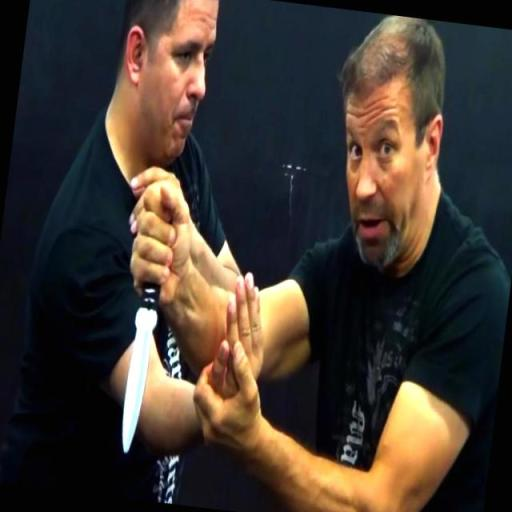knife: (118, 282, 162, 456)
